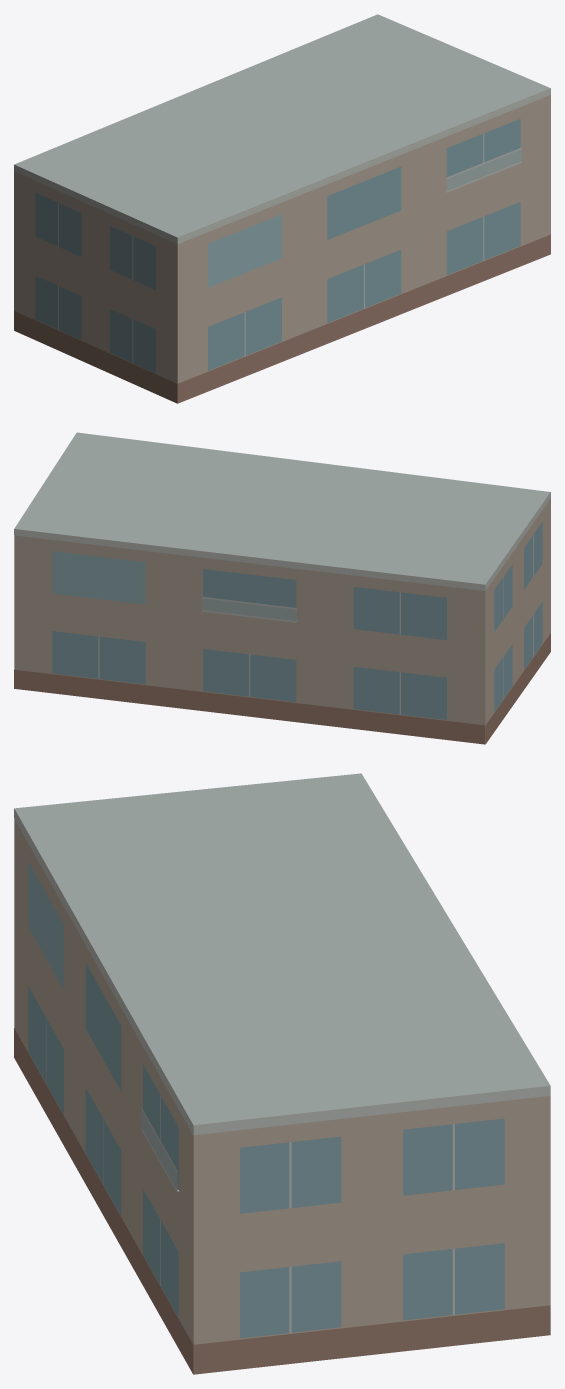
The model's file is survey-upis-32616220.glb.
The picture shows the model from 3 angles, top to bottom: view 1: azimuth 30°, elevation 25°; view 2: azimuth 150°, elevation 25°; view 3: azimuth 270°, elevation 25°; orthographic projection. The views are drawn at different scales.
Visible parts, largest first — view 1: survey-upis-32616220.tmp; view 2: survey-upis-32616220.tmp; view 3: survey-upis-32616220.tmp.
Boxes of the visible parts, x1=… form: survey-upis-32616220.tmp: x1=14, y1=14, x2=550, y2=403; survey-upis-32616220.tmp: x1=14, y1=432, x2=550, y2=744; survey-upis-32616220.tmp: x1=14, y1=773, x2=550, y2=1374.
Size of the model in its own units: 18.49 by 6.1 by 11.91.
